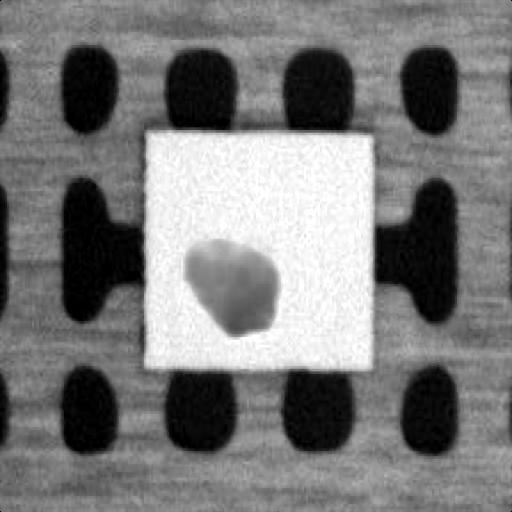DIE_INK: (241, 146, 443, 234)
